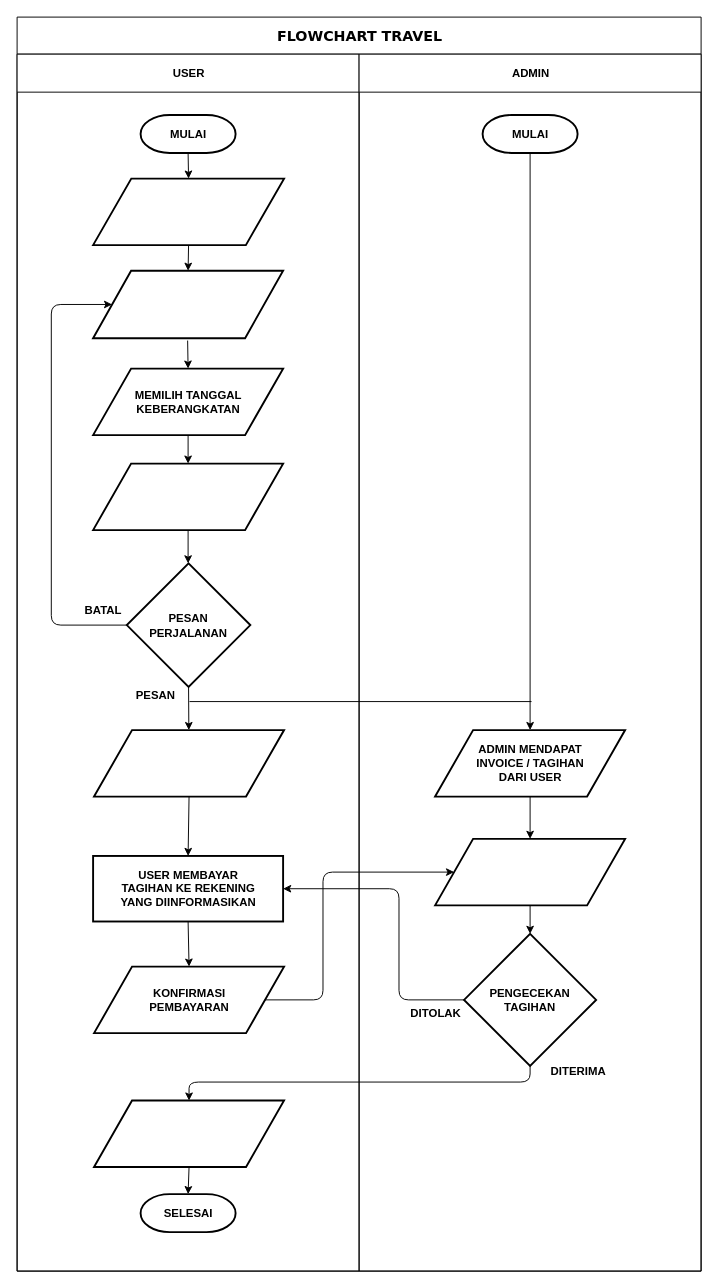
This 717x1287 diagram has some shape labels left out. Each missing label, with the centre of its shape:
"ADMIN MENDAPAT PESAN DARI USER" goes at point (530, 871).
"MEMILIH PERJALANAN TRAVEL" goes at point (188, 304).
"MENCARI PERJALANAN TRAVEL" goes at point (188, 211).
"MENGISI DATA PERSONAL" goes at point (188, 496).
"PEMBAYARAN BERHASIL" goes at point (189, 1133).
"USER MENDAPAT INVOICE / TAGIHAN" goes at point (189, 763).
